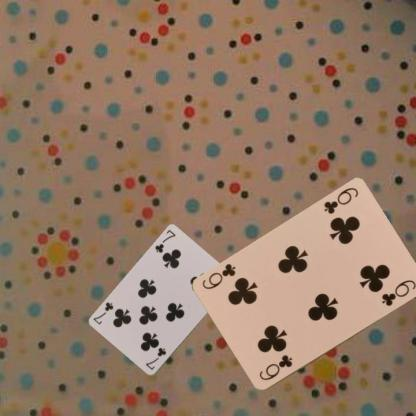6c: (321, 185, 360, 216), (256, 352, 294, 382)
7c: (142, 345, 168, 371), (152, 228, 177, 254)
